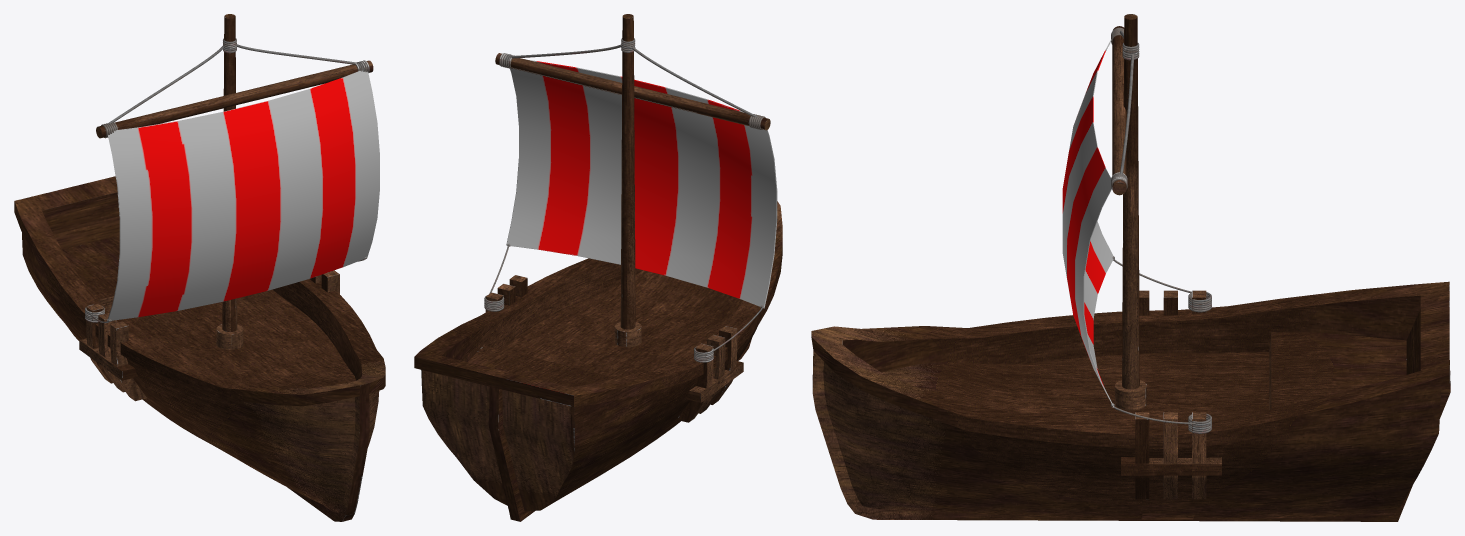
The model's file is Ship_DefaultSmall_01.fbx.
3 views of the same model, side by side, from view 1: azimuth 30°, elevation 25°; view 2: azimuth 150°, elevation 25°; view 3: azimuth 270°, elevation 25° (orthographic). The views are drawn at different scales.
Parts seen in each view (by area): view 1: Ship_DefaultSmall_01; view 2: Ship_DefaultSmall_01; view 3: Ship_DefaultSmall_01.
Part boxes in pixels (x1,y1,x2,y2): Ship_DefaultSmall_01: [14, 14, 385, 521]; Ship_DefaultSmall_01: [414, 14, 782, 521]; Ship_DefaultSmall_01: [811, 14, 1450, 521].
Size of the model in its own units: 473 by 709 by 818.
